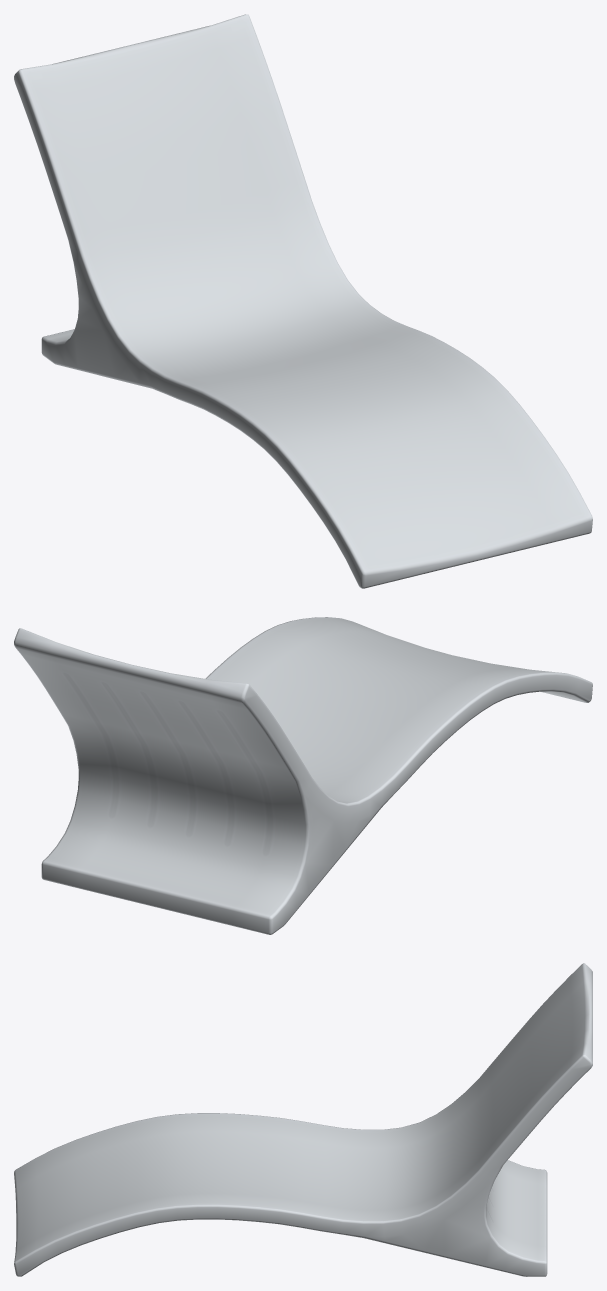
Rendered from PoolLounger01_2.FBX.
The picture shows the model from 3 angles, top to bottom: view 1: azimuth 30°, elevation 25°; view 2: azimuth 150°, elevation 25°; view 3: azimuth 270°, elevation 25°; orthographic projection. The views are drawn at different scales.
Visible parts, largest first — view 1: PoolLounger01_2; view 2: PoolLounger01_2; view 3: PoolLounger01_2.
Boxes of the visible parts, box(x1,y1,x2,y2) form: PoolLounger01_2: box(14, 14, 592, 588); PoolLounger01_2: box(14, 617, 592, 934); PoolLounger01_2: box(14, 963, 592, 1276).
Size of what is drawn, in the model's own units: 0.636 by 0.7075 by 1.67.
